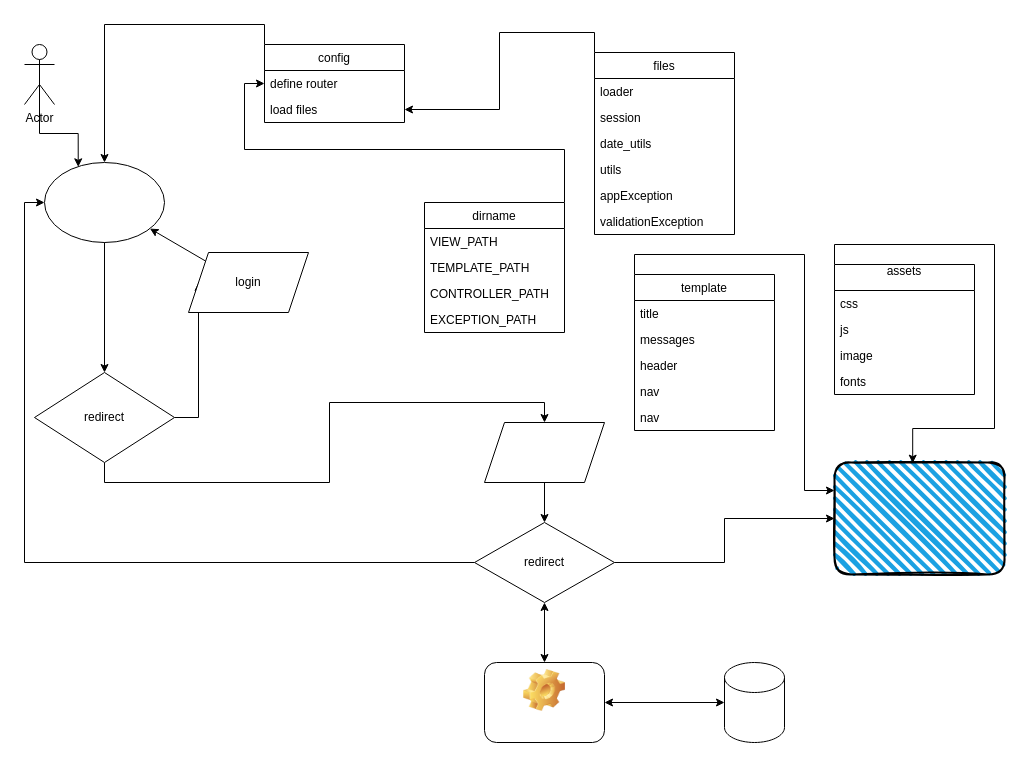
Some shapes in this 1023 by 760 pixel diagram are drawn without their labels. Each missing label, with the centre of its shape:
"back-end" belongs at point (544, 702).
"controler" belongs at point (544, 452).
"index" belongs at point (104, 202).
"view" belongs at point (919, 518).
